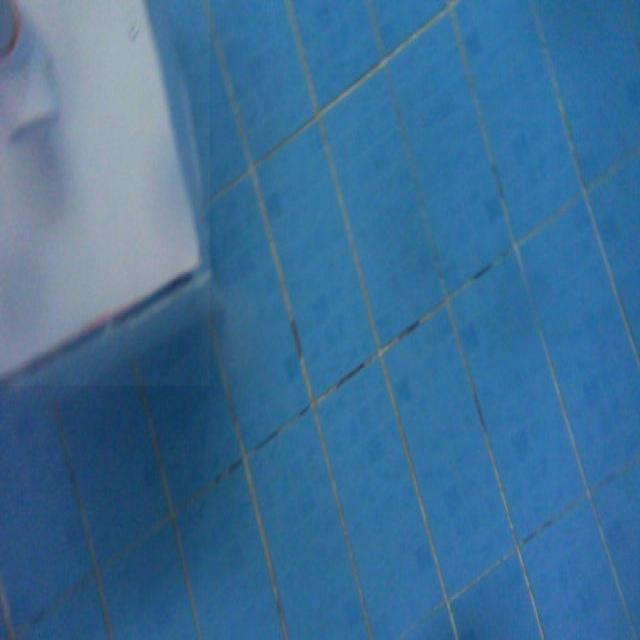Cube: (0, 0, 210, 386)
